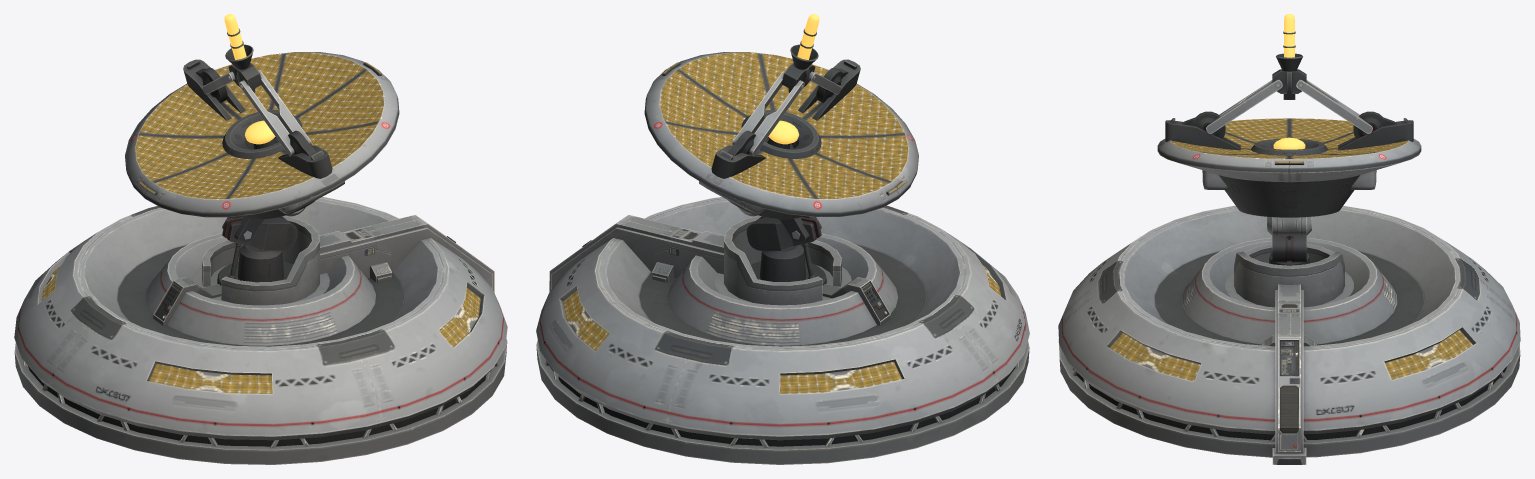
Rendered from ST_Triangle.fbx.
3 views of the same model, side by side, from view 1: azimuth 30°, elevation 25°; view 2: azimuth 150°, elevation 25°; view 3: azimuth 270°, elevation 25° (orthographic). The views are drawn at different scales.
Visible parts, largest first — view 1: ST_Triangle; view 2: ST_Triangle; view 3: ST_Triangle.
Part boxes in pixels (x1,y1,x2,y2): ST_Triangle: [14, 14, 507, 464]; ST_Triangle: [536, 14, 1029, 464]; ST_Triangle: [1058, 14, 1520, 464].
Size of the model in its own units: 769 by 590 by 744.
